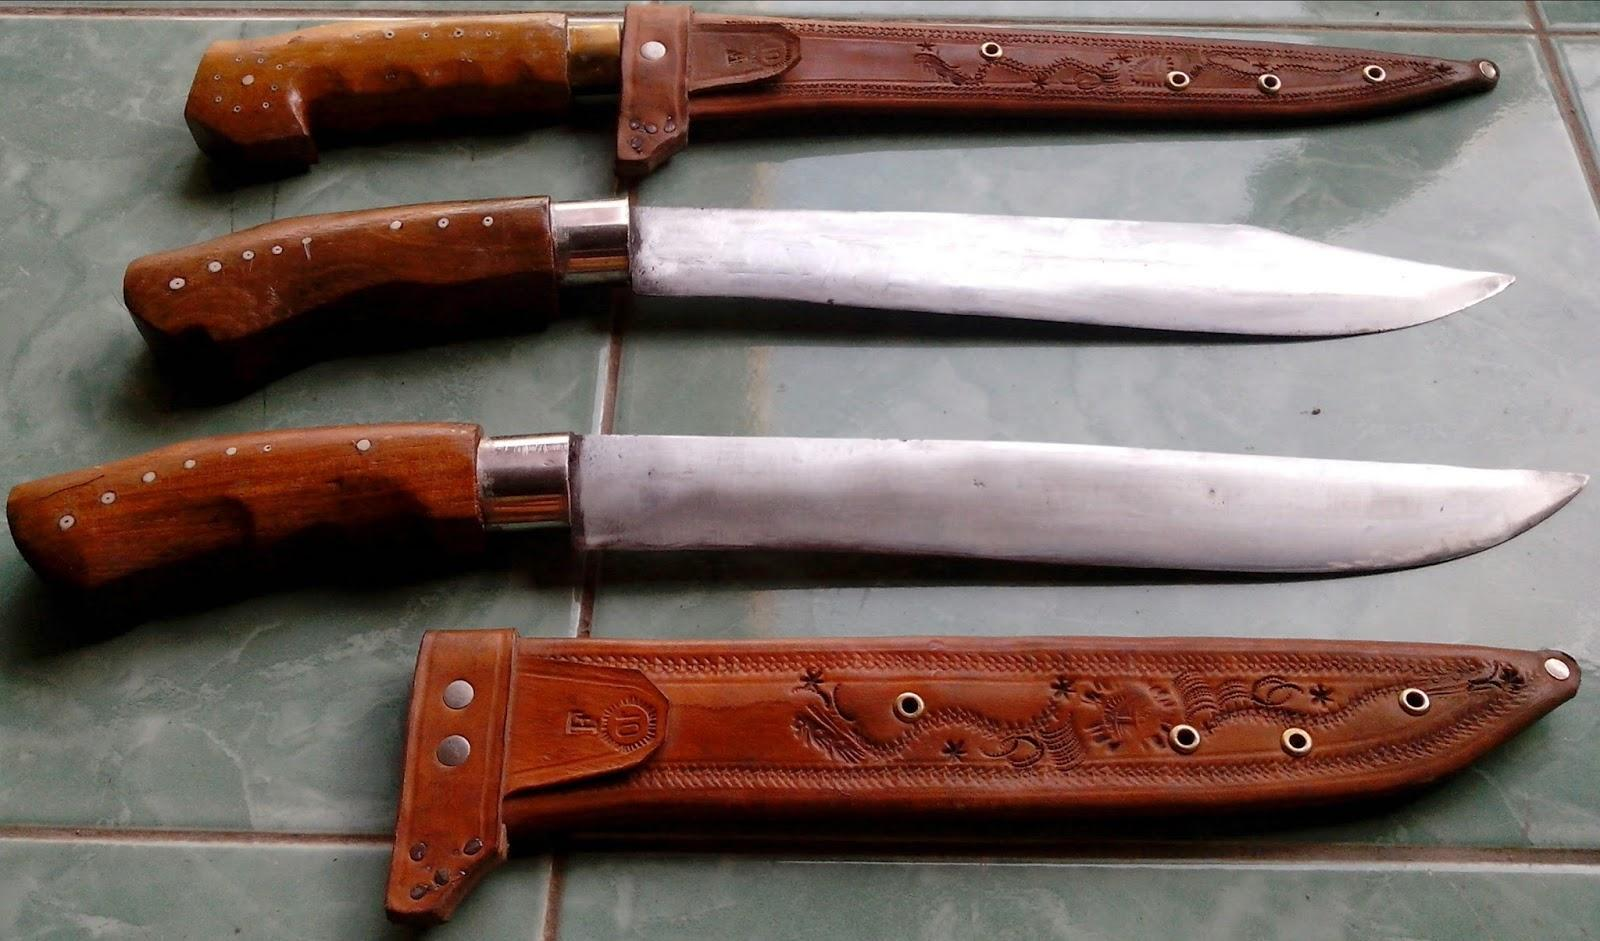faca: (9, 423, 1585, 590), (125, 196, 1512, 381)
